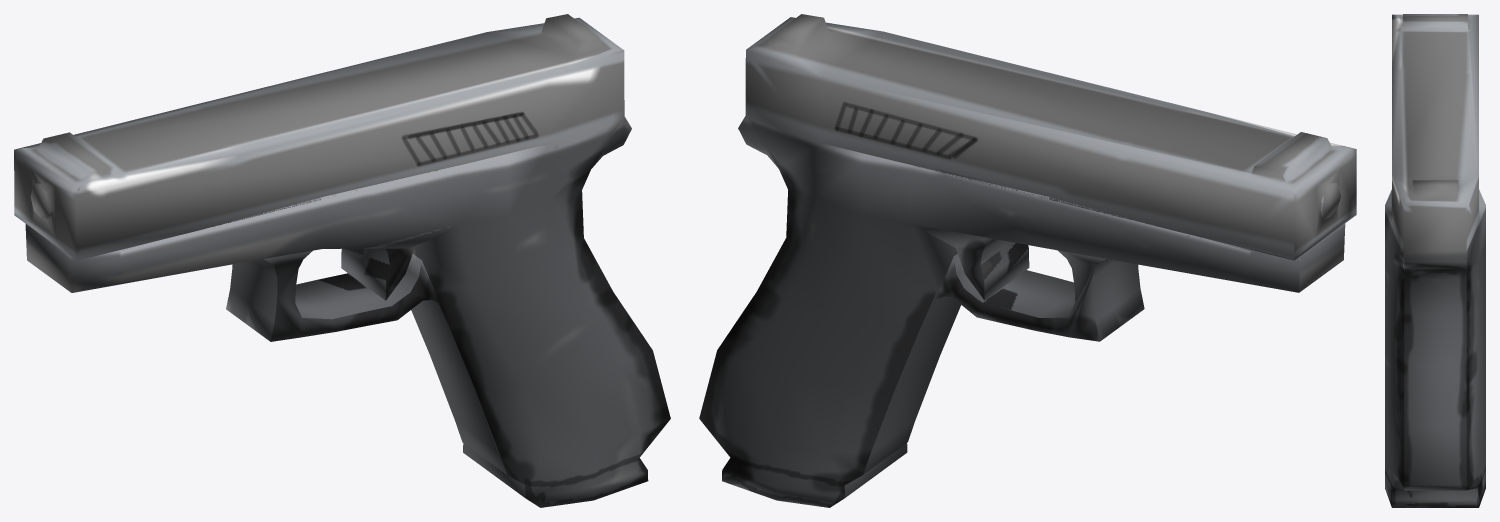
Rendered from pistola1modelo.fbx.
3 renders of one model, left to right at view 1: azimuth 30°, elevation 25°; view 2: azimuth 150°, elevation 25°; view 3: azimuth 270°, elevation 25°, orthographic. The views are drawn at different scales.
Parts seen in each view (by area): view 1: Cube; view 2: Cube; view 3: Cube.
Part boxes in pixels (left/top/right/bottom): Cube: left=14, top=14, right=670, bottom=507; Cube: left=699, top=14, right=1356, bottom=507; Cube: left=1385, top=14, right=1485, bottom=507.
Bounding box in the file's own units: 396 × 275 × 81.1.
1 material, 1 textured.
